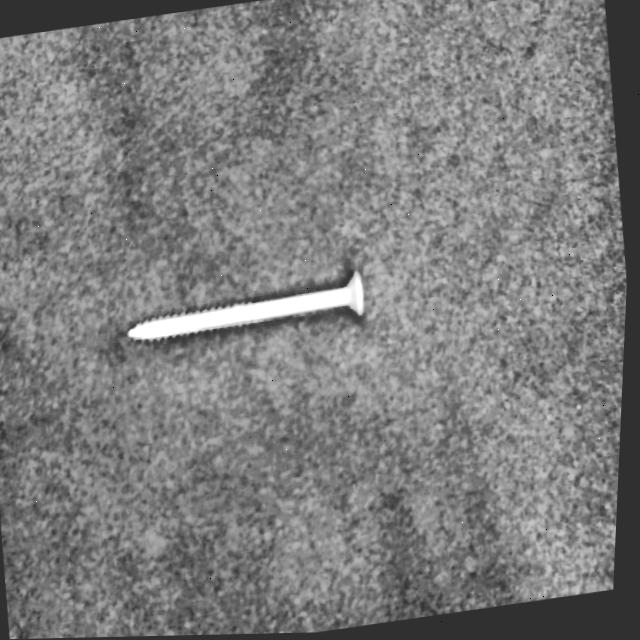Wood screw: (125, 268, 370, 349)
